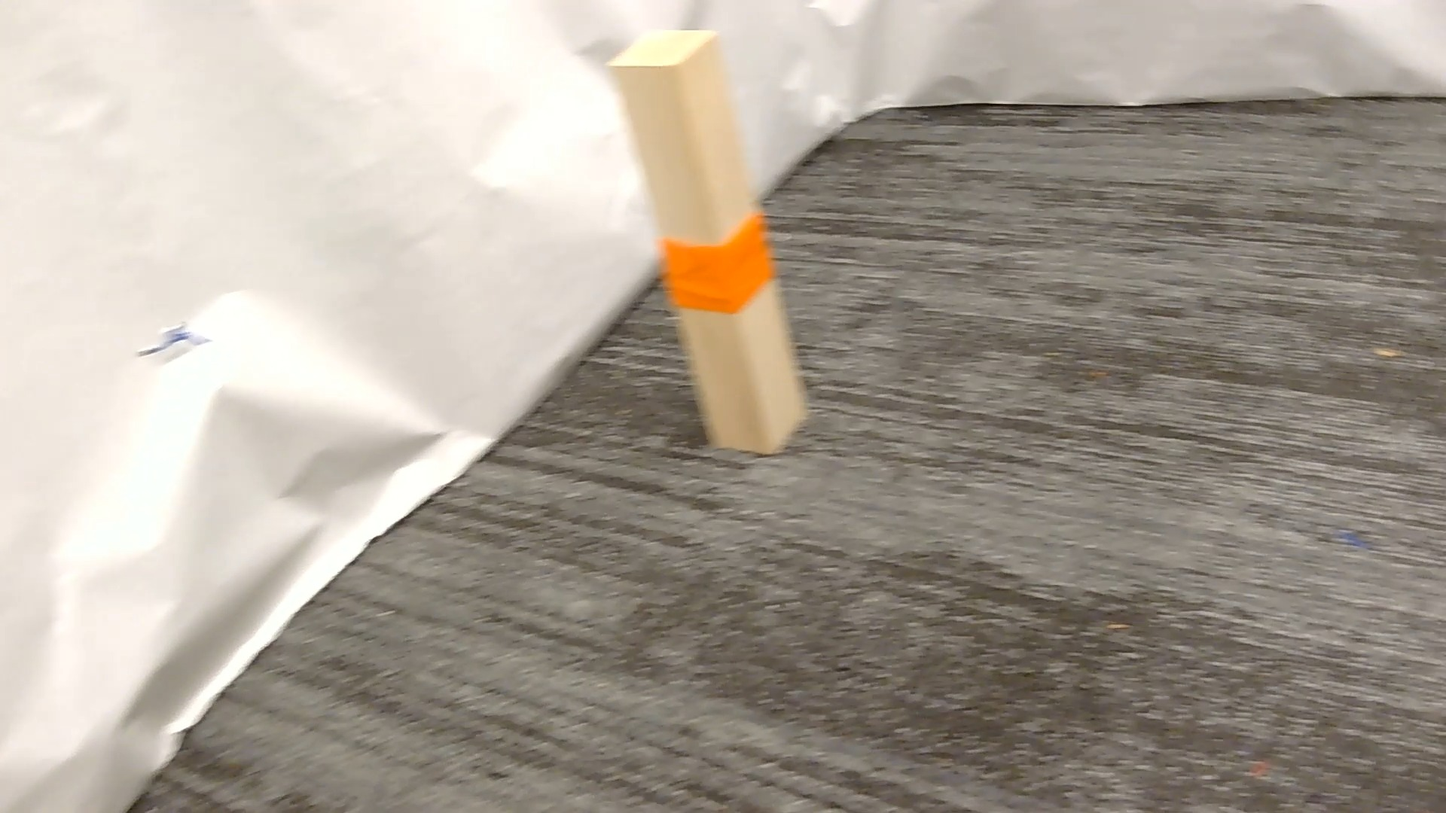Wooden Block: (608, 30, 805, 453)
